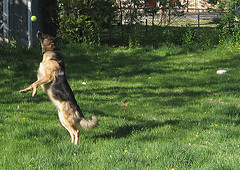tennis ball: (29, 14, 38, 23)
